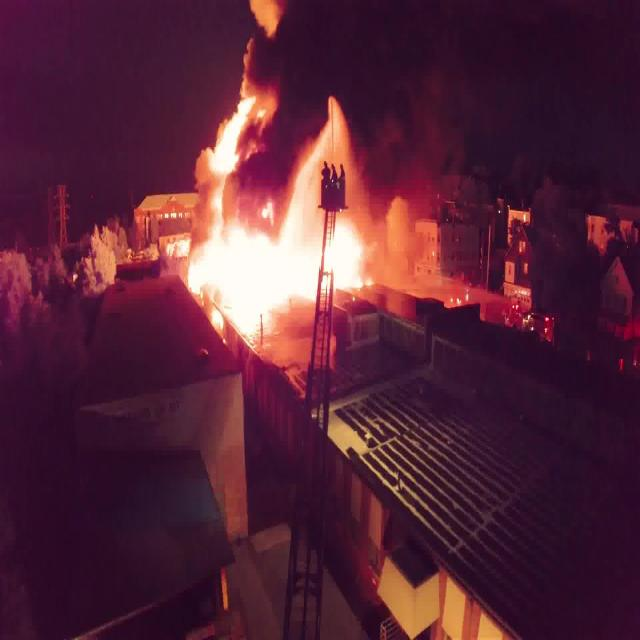Fire: (184, 238, 372, 336)
Smoke: (189, 0, 449, 242)
